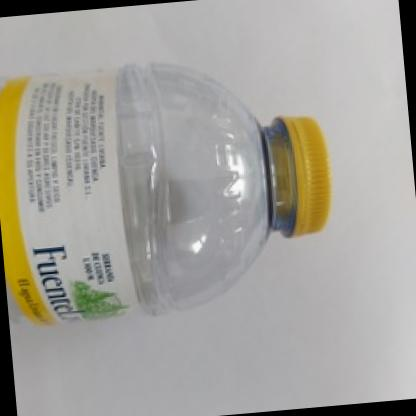plastic_bottles: (0, 44, 345, 326)
